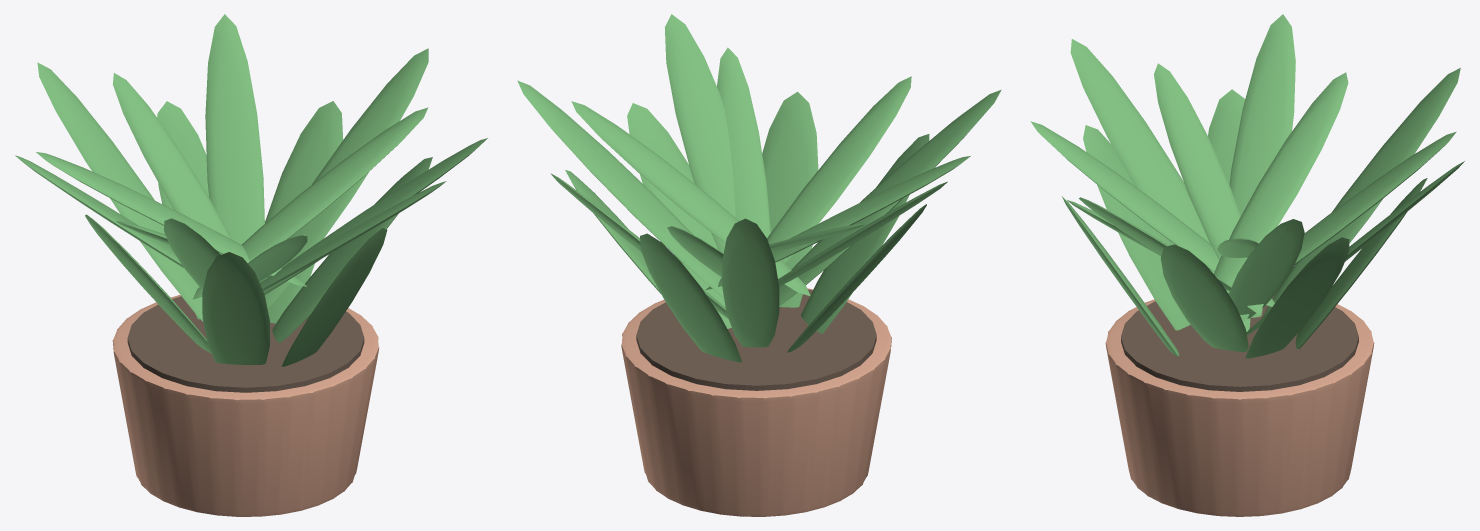
Rendered from plant-fern.glb.
3 views of the same model, side by side, from view 1: azimuth 30°, elevation 25°; view 2: azimuth 150°, elevation 25°; view 3: azimuth 270°, elevation 25° (orthographic).
Parts seen in each view (by area): view 1: Cone, Cylinder, Sphere.010, Sphere.014, Sphere.007, Sphere, Sphere.015, Sphere.013, Sphere.005, Sphere.011, Sphere.012, Sphere.008 (+7 smaller); view 2: Cone, Cylinder, Sphere.016, Sphere.013, Sphere.007, Sphere.006, Sphere.011, Sphere.003, Sphere, Sphere.002, Sphere.001, Sphere.014 (+8 smaller); view 3: Cone, Cylinder, Sphere.001, Sphere.004, Sphere.012, Sphere.009, Sphere.008, Sphere.005, Sphere.007, Sphere.006, Sphere.013, Sphere.014 (+7 smaller).
Boxes of the visible parts, x1=… form: Cone: x1=112, y1=295, x2=379, y2=516; Cylinder: x1=127, y1=296, x2=364, y2=392; Sphere.010: x1=205, y1=14, x2=264, y2=244; Sphere.014: x1=202, y1=252, x2=269, y2=364; Sphere.007: x1=37, y1=62, x2=203, y2=321; Sphere: x1=192, y1=107, x2=428, y2=299; Sphere.015: x1=112, y1=73, x2=232, y2=254; Sphere.013: x1=259, y1=48, x2=428, y2=308; Sphere.005: x1=265, y1=101, x2=343, y2=323; Sphere.011: x1=281, y1=227, x2=387, y2=366; Sphere.012: x1=36, y1=152, x2=306, y2=286; Sphere.008: x1=272, y1=157, x2=432, y2=342; Cone: x1=621, y1=288, x2=891, y2=516; Cylinder: x1=636, y1=289, x2=876, y2=390; Sphere.016: x1=664, y1=14, x2=735, y2=253; Sphere.013: x1=517, y1=80, x2=723, y2=298; Sphere.007: x1=722, y1=218, x2=779, y2=347; Sphere.006: x1=767, y1=76, x2=911, y2=262; Sphere.011: x1=762, y1=91, x2=818, y2=307; Sphere.003: x1=717, y1=47, x2=770, y2=237; Sphere: x1=571, y1=101, x2=810, y2=296; Sphere.002: x1=640, y1=233, x2=742, y2=362; Sphere.001: x1=779, y1=89, x2=1001, y2=305; Sphere.014: x1=800, y1=134, x2=929, y2=333; Cone: x1=1105, y1=299, x2=1374, y2=516; Cylinder: x1=1121, y1=294, x2=1358, y2=391; Sphere.001: x1=1070, y1=39, x2=1250, y2=331; Sphere.004: x1=1229, y1=14, x2=1295, y2=321; Sphere.012: x1=1214, y1=72, x2=1348, y2=292; Sphere.009: x1=1154, y1=63, x2=1263, y2=314; Sphere.008: x1=1160, y1=244, x2=1248, y2=351; Sphere.005: x1=1245, y1=237, x2=1349, y2=358; Sphere.007: x1=1258, y1=68, x2=1460, y2=328; Sphere.006: x1=1030, y1=121, x2=1274, y2=306; Sphere.013: x1=1228, y1=219, x2=1304, y2=318; Sphere.014: x1=1083, y1=125, x2=1190, y2=330.
Bounding box in the file's own units: 0.859 × 0.6915 × 0.7678.
